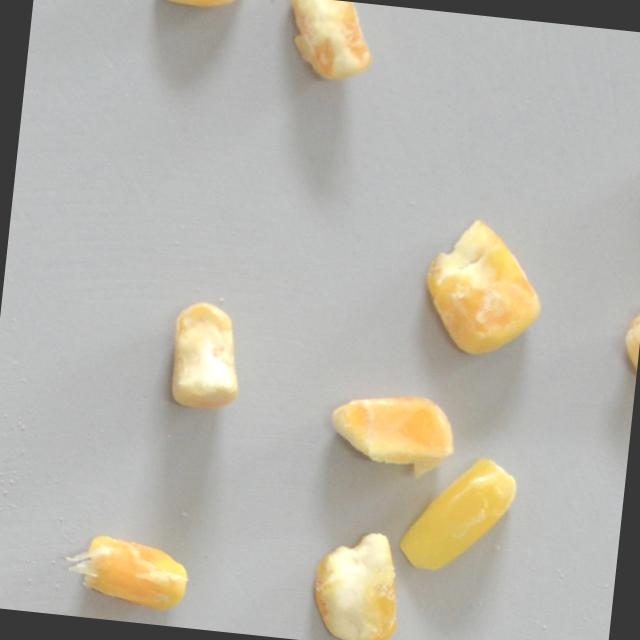dañado: (412, 211, 550, 365), (399, 445, 526, 584), (318, 387, 463, 486), (303, 522, 411, 640), (57, 526, 196, 616), (274, 0, 384, 92), (613, 296, 640, 387), (151, 0, 248, 16)
no_desgerminado: (160, 296, 252, 418)
